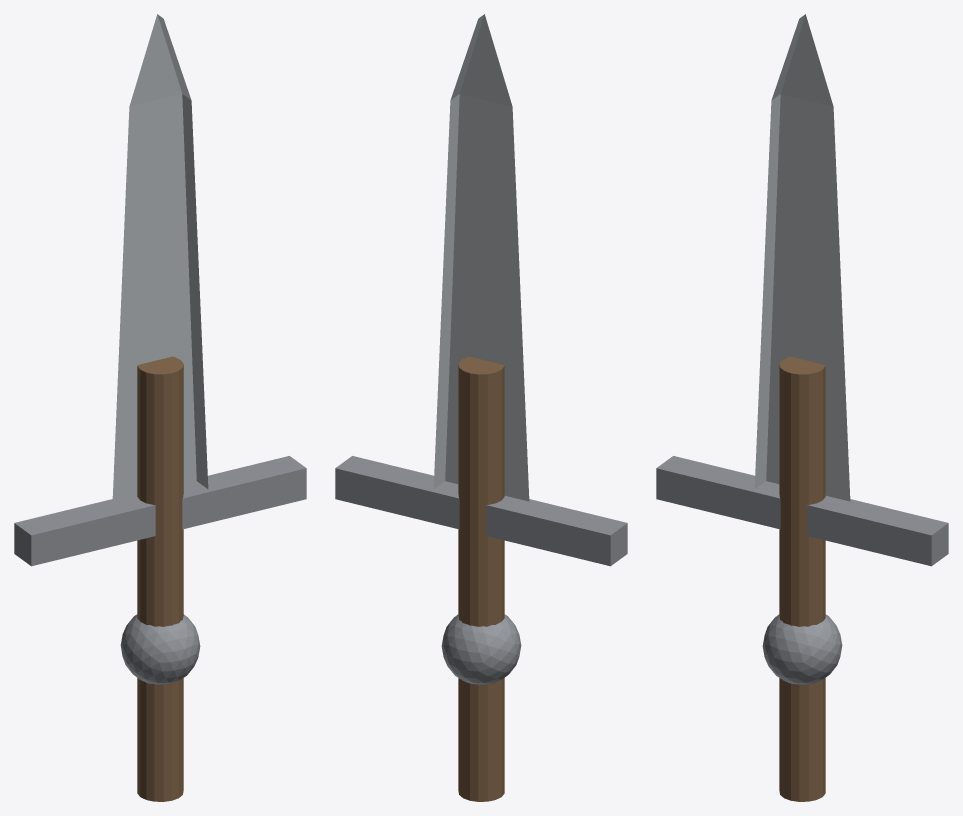
File: broken_greatsword.glb
3 renders of one model, left to right at view 1: azimuth 30°, elevation 25°; view 2: azimuth 150°, elevation 25°; view 3: azimuth 330°, elevation 25°, orthographic.
Visible parts, largest first — view 1: sword_0_0, sword_0_2, sword_0_1, sword_0_3; view 2: sword_0_0, sword_0_2, sword_0_1, sword_0_3; view 3: sword_0_0, sword_0_2, sword_0_1, sword_0_3.
Part boxes in pixels (x1,y1,x2,y2): sword_0_0: (112,14,208,501); sword_0_2: (137,356,183,801); sword_0_1: (14,456,306,566); sword_0_3: (120,614,200,684); sword_0_0: (433,14,529,501); sword_0_2: (458,356,504,801); sword_0_1: (335,456,627,566); sword_0_3: (441,614,521,684); sword_0_0: (754,14,850,501); sword_0_2: (779,356,825,801); sword_0_1: (656,456,948,566); sword_0_3: (762,614,842,684).
Size of the model in its own units: 2.05 by 5.52 by 0.5142.
